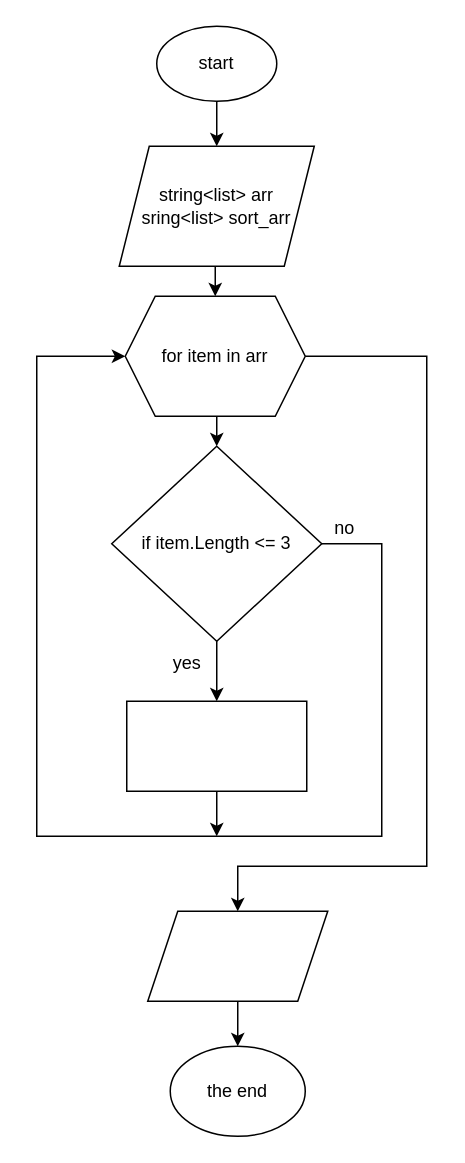
The diagram is 465 pixels wide and 1163 high, and some of its shapes have lost their labels. The shapes that lost their labels are listed below. From the top down, each one's centre as x and y in pixels, then its label:
At point (216, 745): "sort_arr.Append(item)".
At point (237, 955): "print sort_arr".
